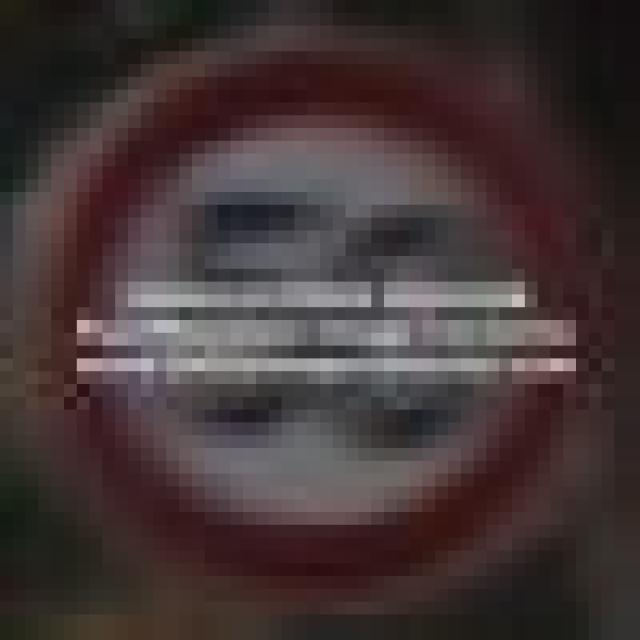speed_limit_30: (38, 39, 576, 564)
